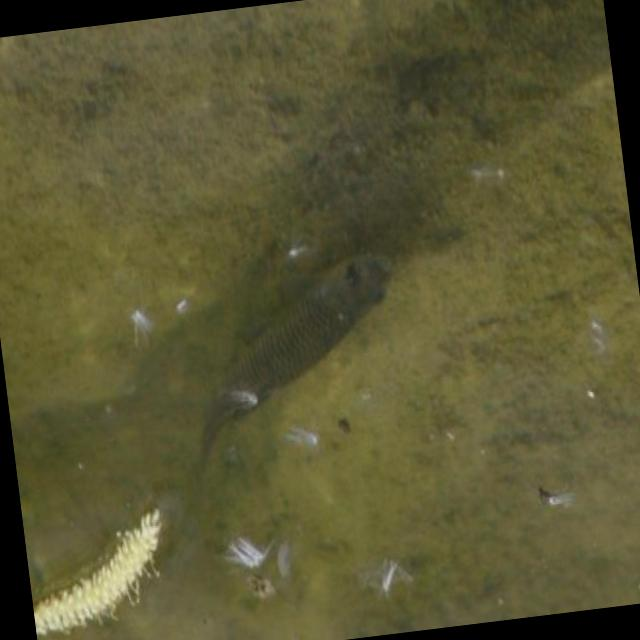Cakil Baligi: (174, 235, 418, 466)
